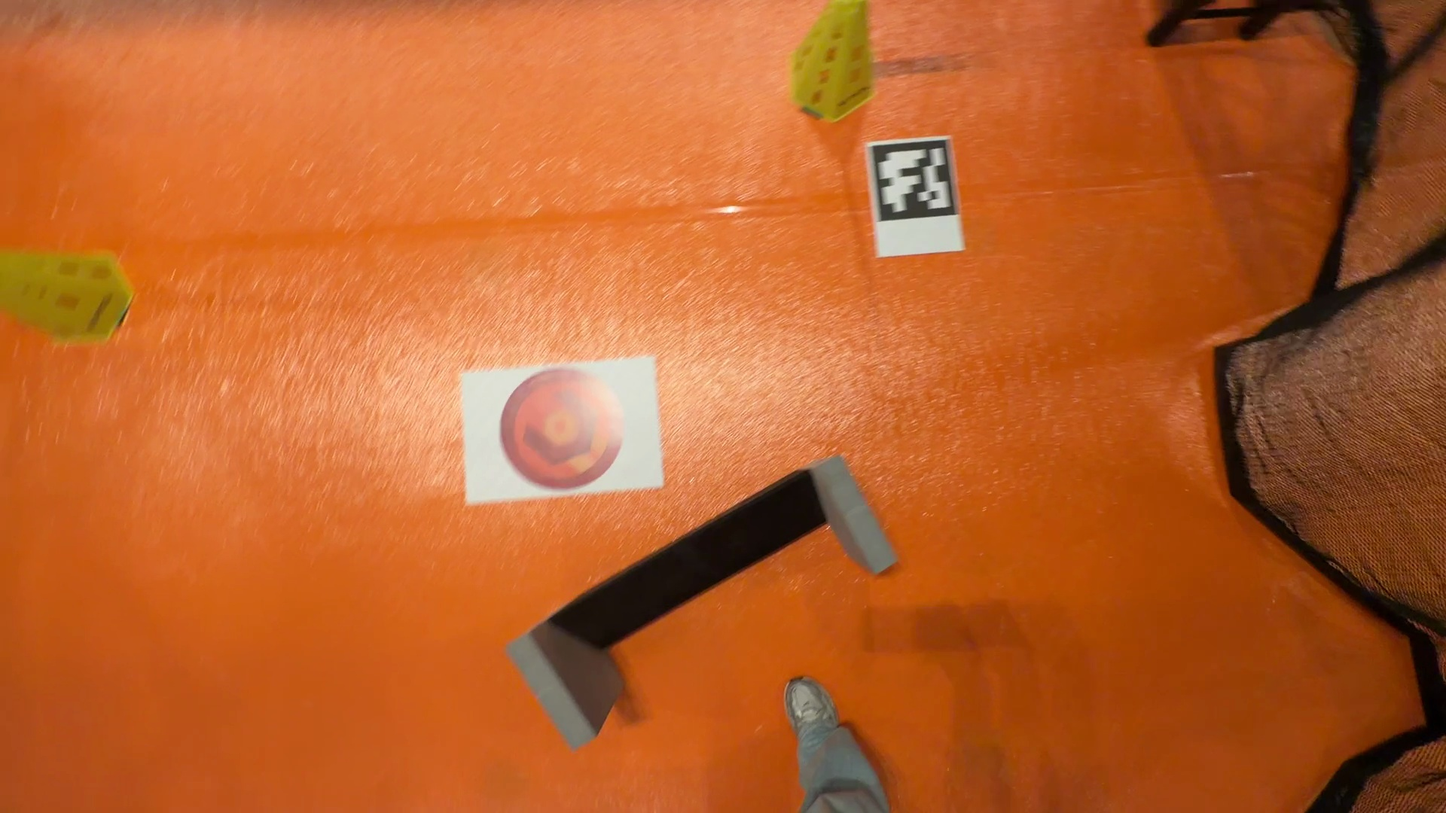landing_pad: (498, 364, 626, 494)
